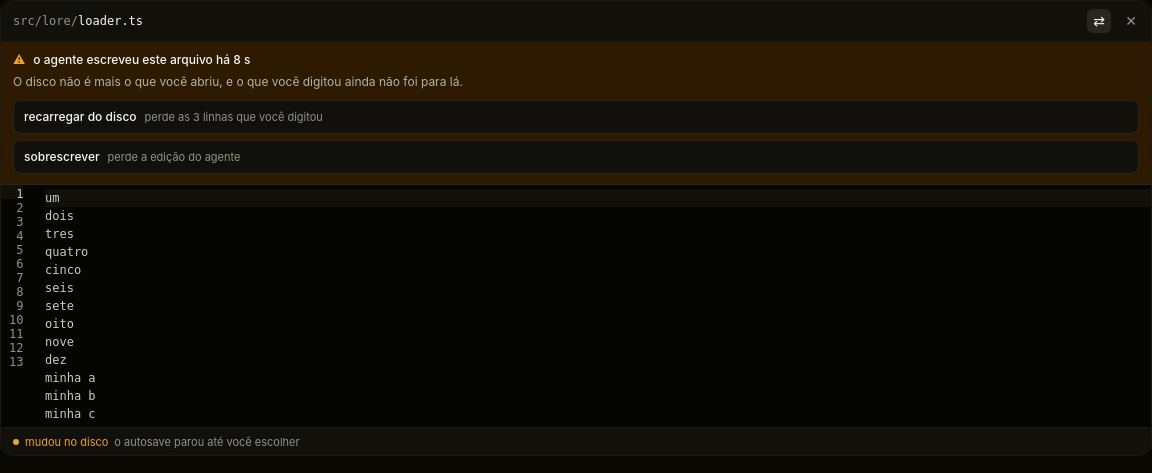
Test case: o conflito na tela › recarrega pelo caminho normal quando o disco não chegou
Expected: the field with class "cm-content" is shown, [45,185,1151,427]
Click the button "recarregar do disco perde as 3 linhas que você digitou": (80, 116) [13,100,1139,134]
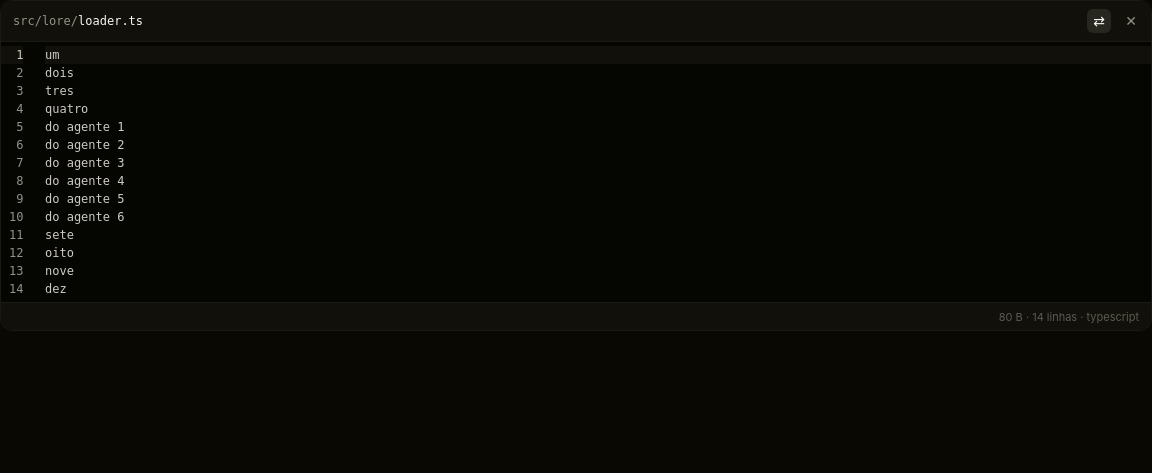
Result: the field with class "cm-content" shows "do agente 1" at [45,42,1151,302]
Result: the text box with class "cm-content" no longer shows "minha c"
Result: the button "sobrescrever" is gone
